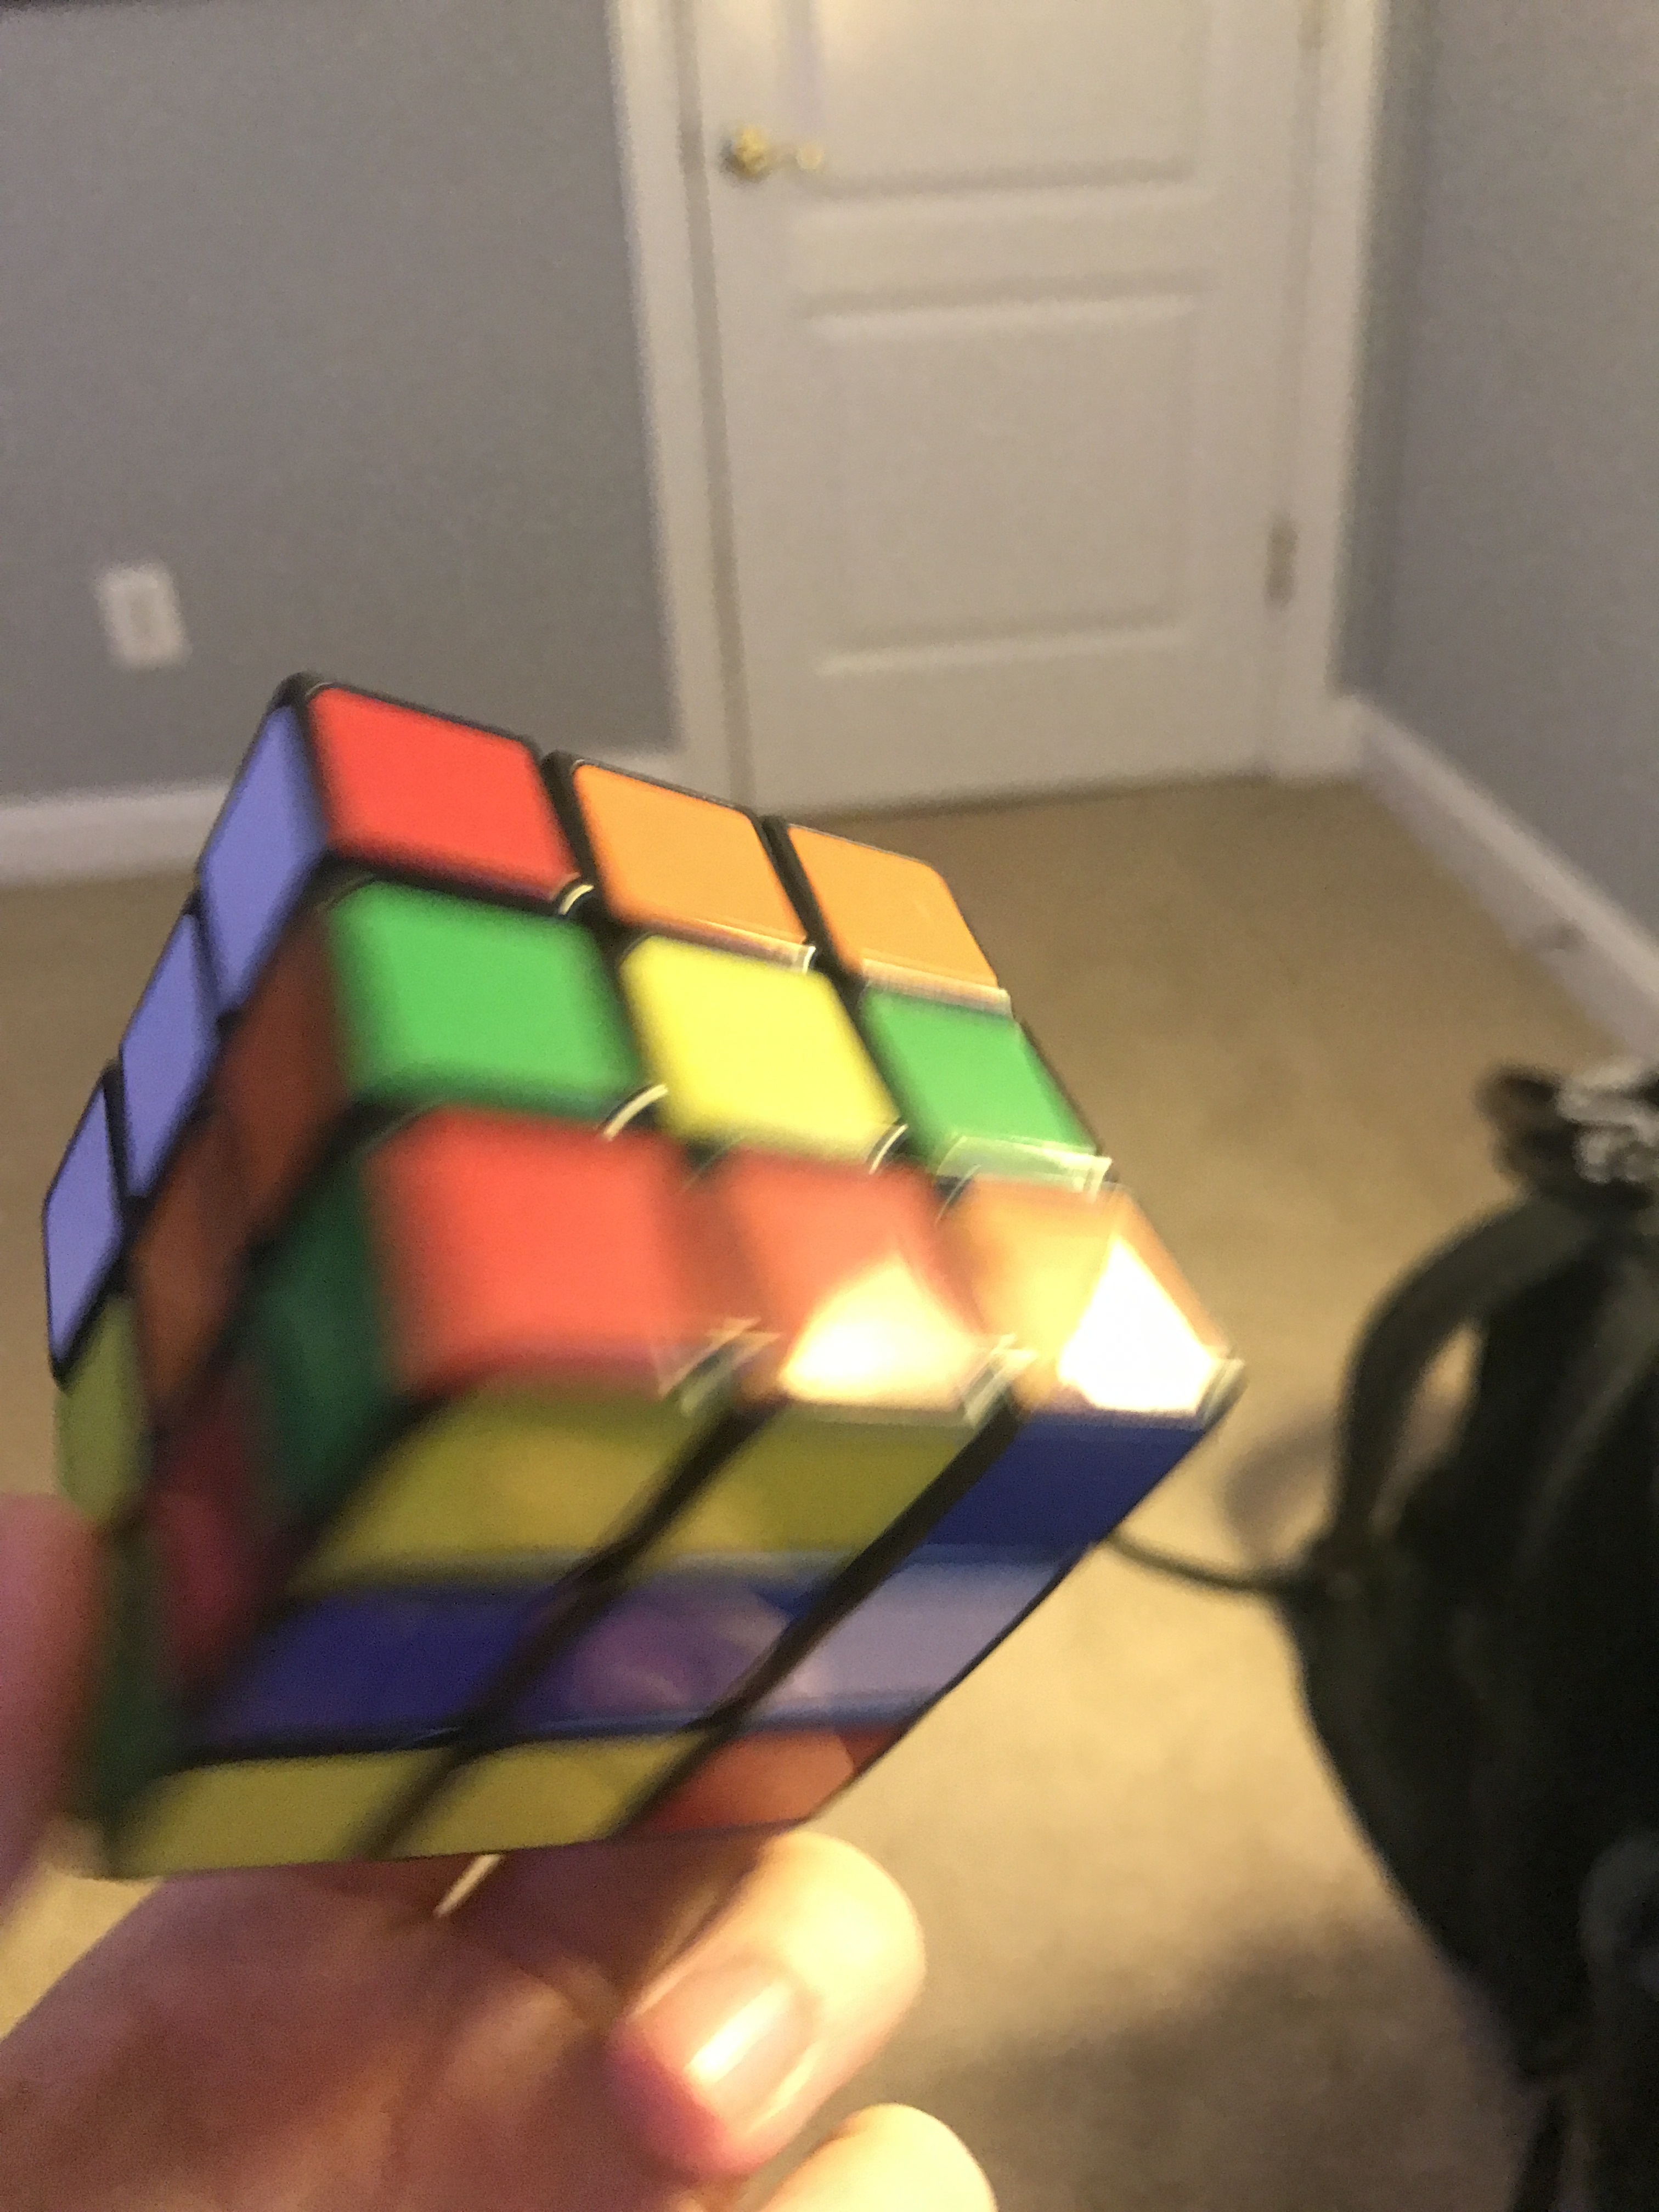rubiks: (37, 679, 1230, 1888)
